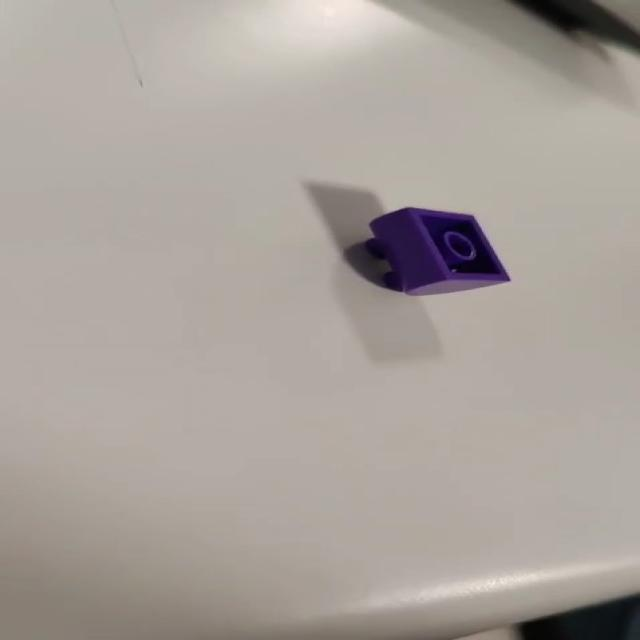H2x2x1: (362, 206, 520, 300)
